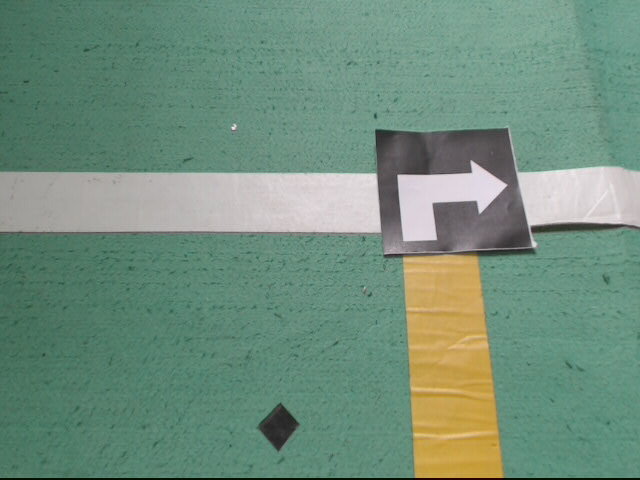right: (374, 127, 535, 257)
